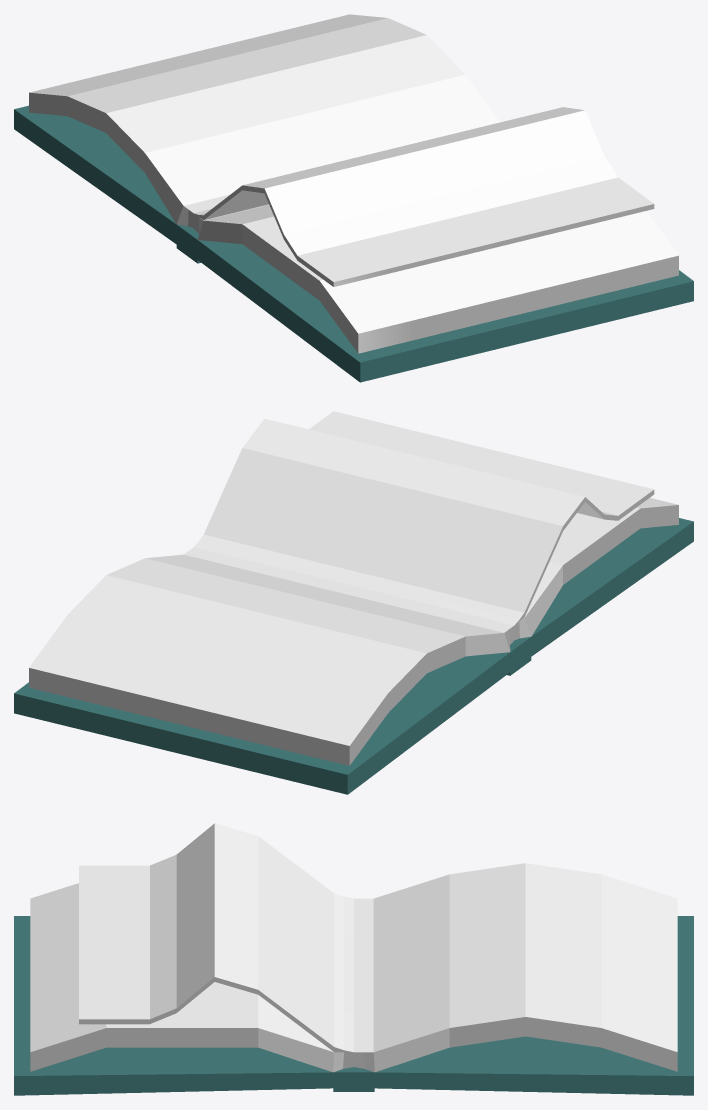
The model's file is bookopen01.obj.
3 renders of one model, top to bottom at view 1: azimuth 30°, elevation 25°; view 2: azimuth 150°, elevation 25°; view 3: azimuth 270°, elevation 25°, orthographic.
Parts seen in each view (by area): view 1: Cube_Cube.001; view 2: Cube_Cube.001; view 3: Cube_Cube.001.
Boxes of the visible parts, left/top/right/bottom form: Cube_Cube.001: left=14, top=14, right=693, bottom=382; Cube_Cube.001: left=14, top=411, right=693, bottom=794; Cube_Cube.001: left=14, top=823, right=693, bottom=1095.
Bounding box in the file's own units: 0.1755 × 0.0591 × 0.3152.
